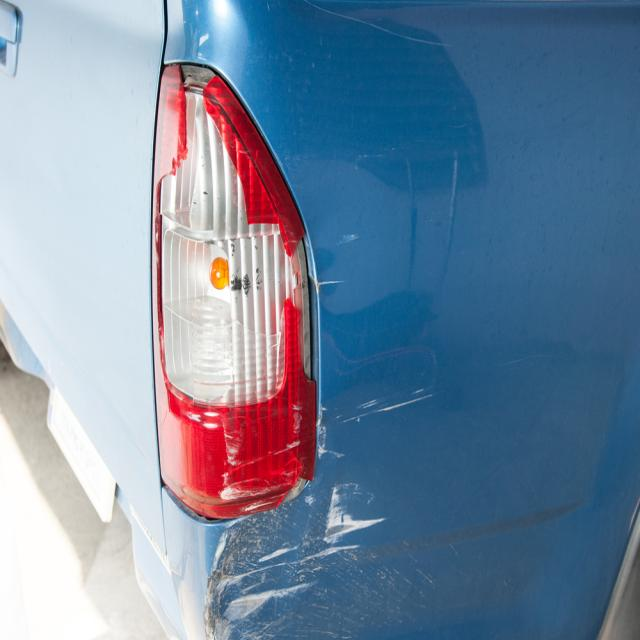Phare abime: (153, 48, 321, 399)
Rayure: (203, 360, 437, 639)
